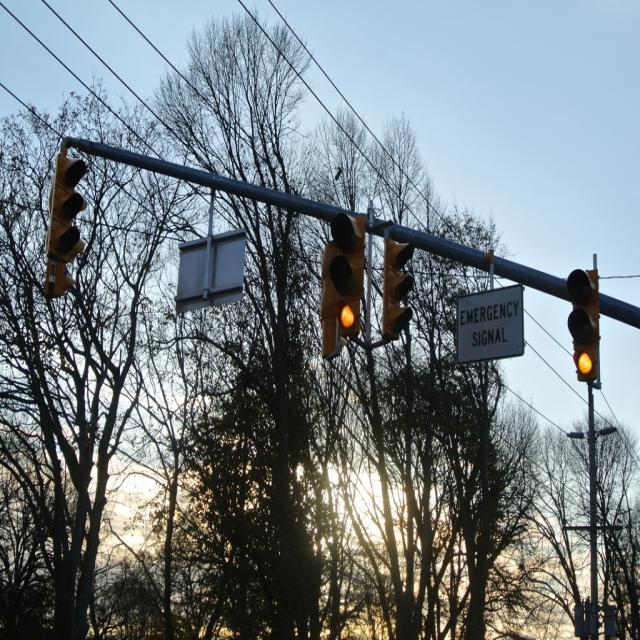traffic light: (330, 214, 368, 331), (565, 269, 602, 384), (51, 153, 85, 263)
